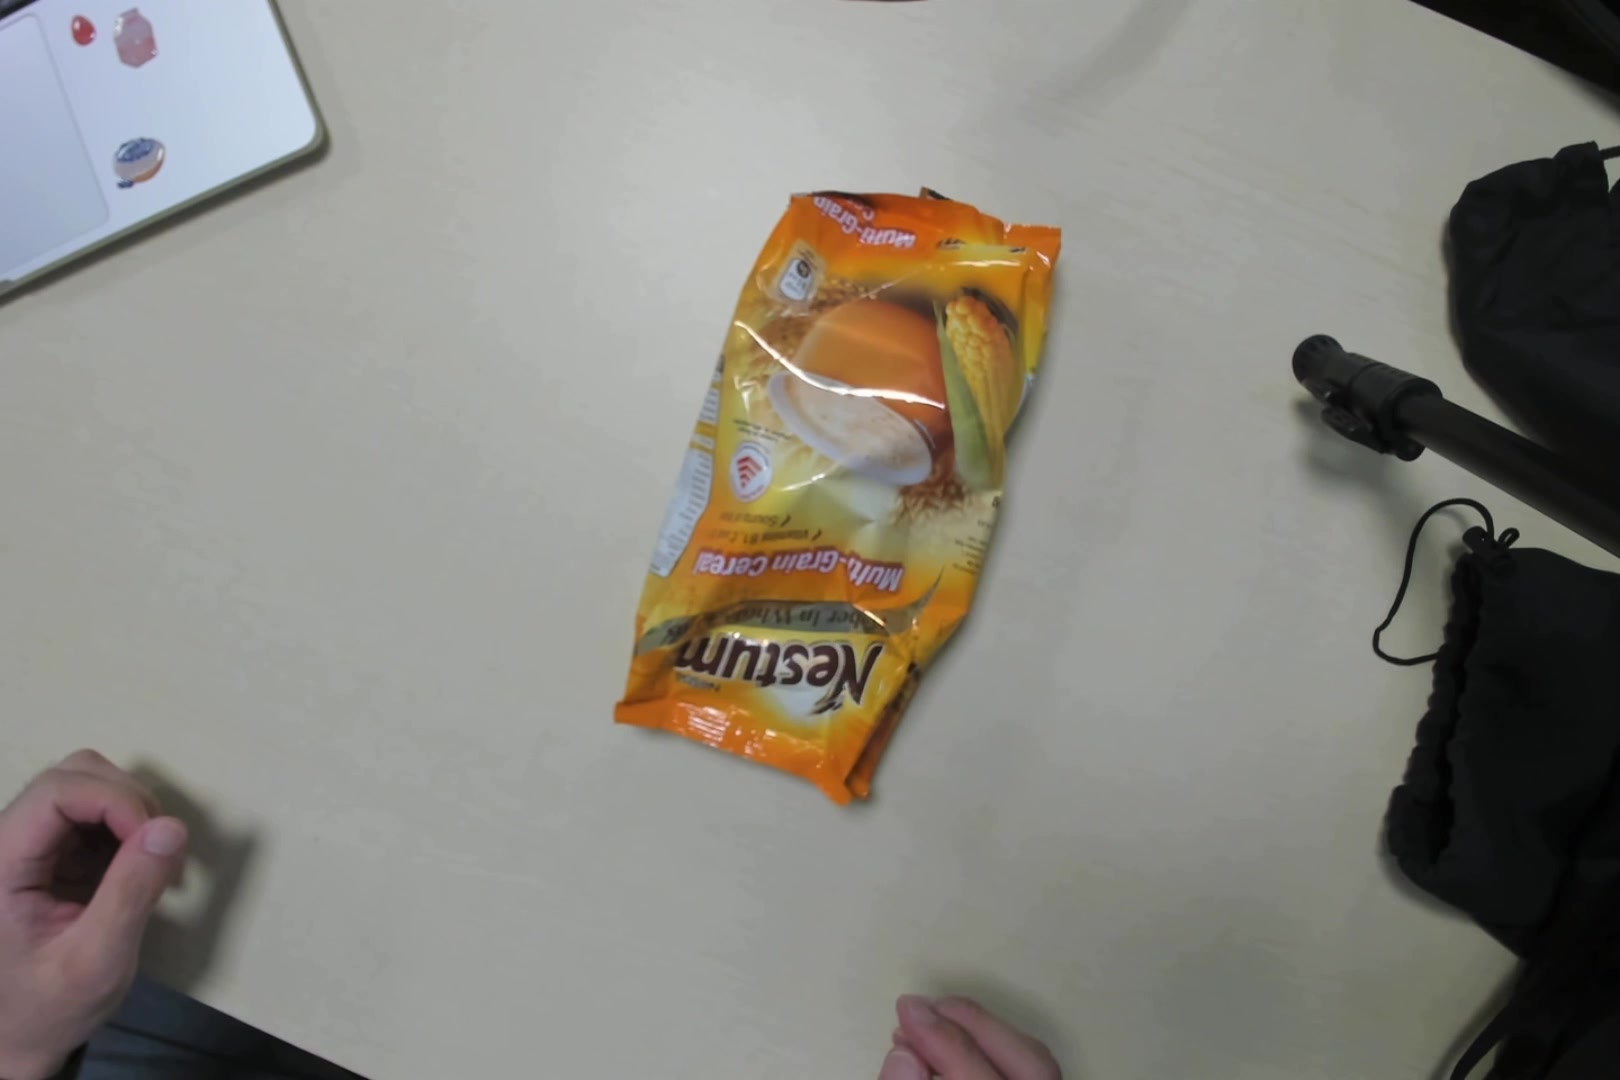RolledOatsInstantOatmeal_200-299g_NonHalal_Healthy: (636, 175, 1049, 794)
